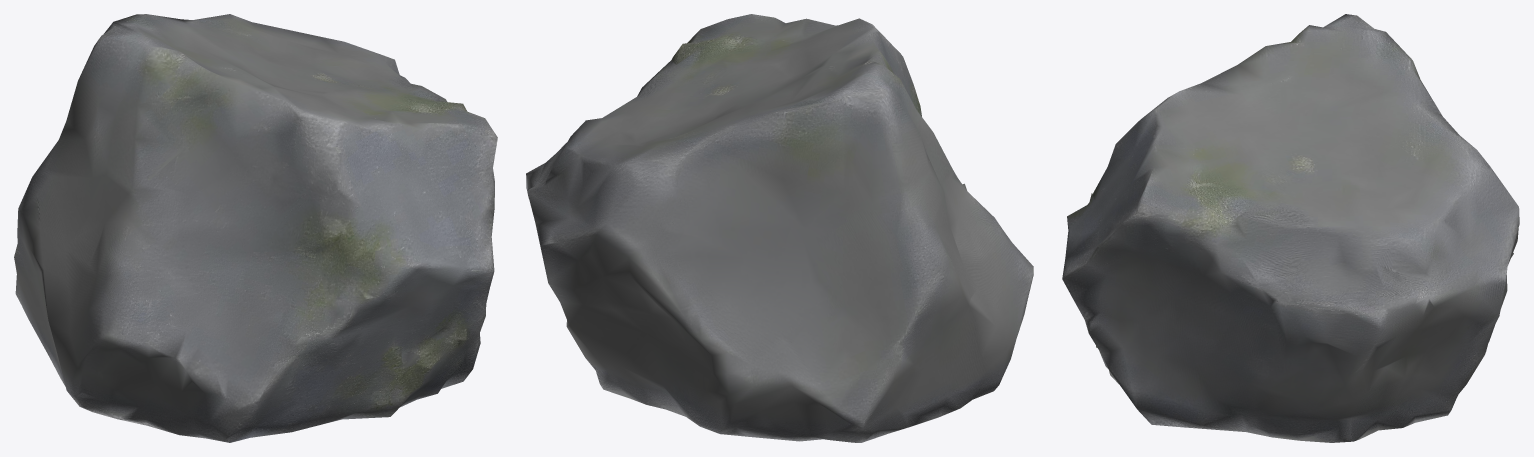
The model's file is rock_boulder.glb.
3 renders of one model, left to right at view 1: azimuth 30°, elevation 25°; view 2: azimuth 150°, elevation 25°; view 3: azimuth 270°, elevation 25°, orthographic. The views are drawn at different scales.
Parts seen in each view (by area): view 1: tripo_node_aa764b81-c497-4aa2-bae4-7d43c2359bf2; view 2: tripo_node_aa764b81-c497-4aa2-bae4-7d43c2359bf2; view 3: tripo_node_aa764b81-c497-4aa2-bae4-7d43c2359bf2.
Boxes of the visible parts, x1,y1,x2,y2 form: tripo_node_aa764b81-c497-4aa2-bae4-7d43c2359bf2: (14, 14, 497, 442); tripo_node_aa764b81-c497-4aa2-bae4-7d43c2359bf2: (526, 14, 1033, 442); tripo_node_aa764b81-c497-4aa2-bae4-7d43c2359bf2: (1062, 14, 1519, 442).
Size of the model in its own units: 1 by 0.7239 by 0.996.
1 material, 1 textured.
